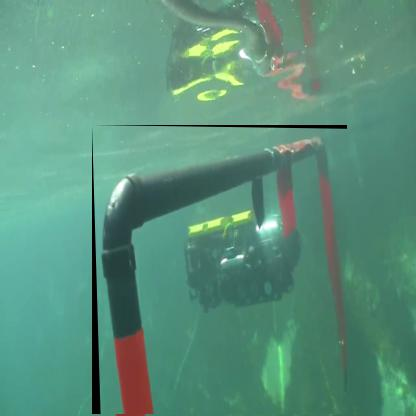gate: (93, 126, 349, 416)
